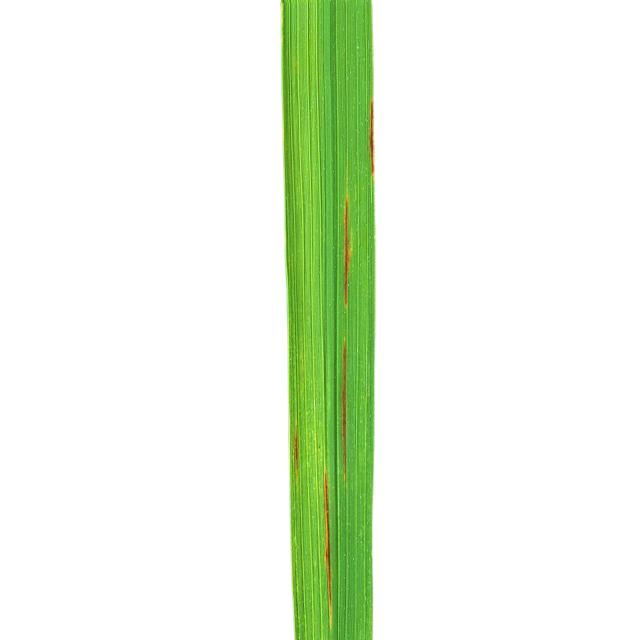Narrow brown: (235, 0, 482, 640)
